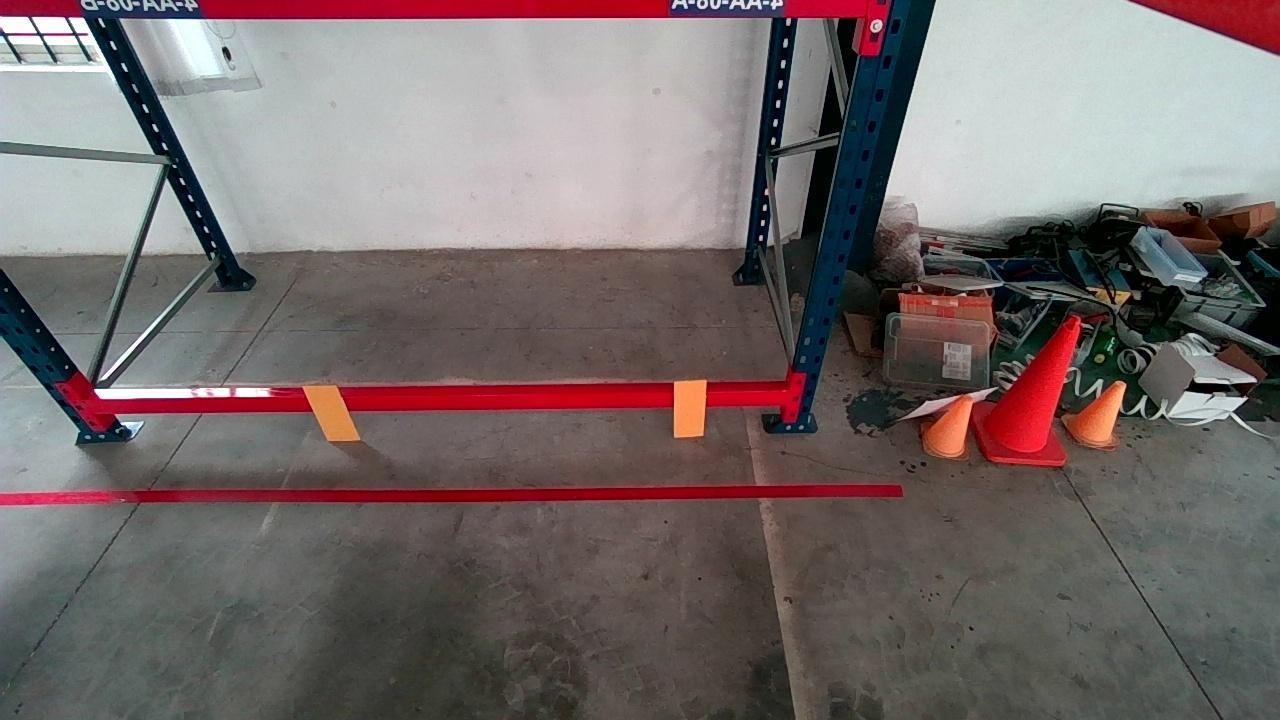h_rack: (94, 384, 785, 419), (2, 0, 864, 18)
orange_strip: (304, 383, 360, 440), (674, 378, 707, 435)
red_line: (3, 475, 895, 512)
